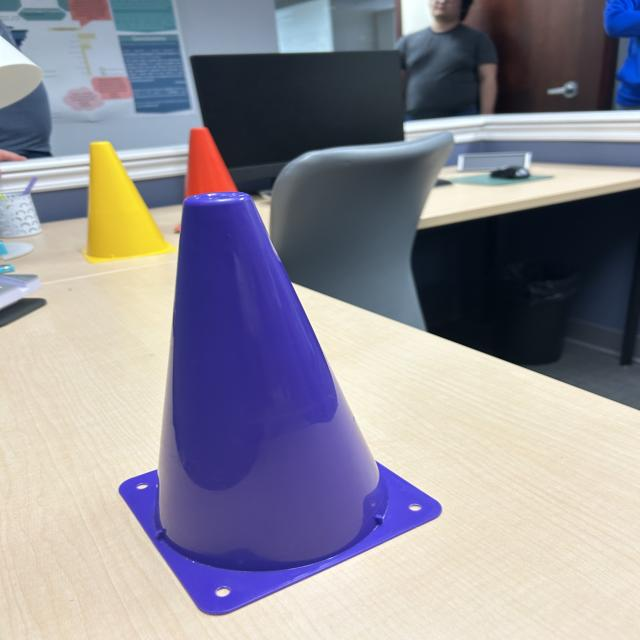orange cone: (181, 122, 241, 192)
purple cone: (121, 192, 445, 620)
yellow cone: (80, 139, 169, 267)
